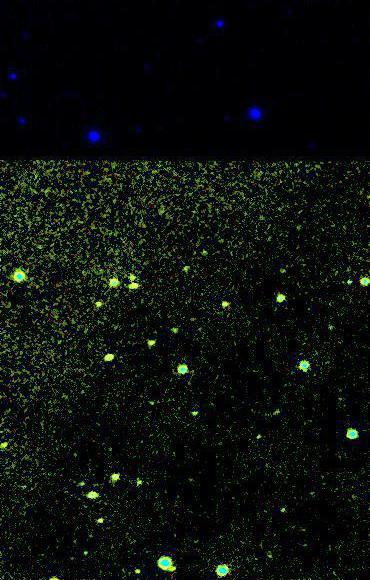star: (83, 505, 113, 535)
